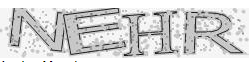E: (62, 8, 126, 57)
H: (121, 10, 179, 57)
N: (8, 7, 64, 53)
R: (183, 9, 244, 56)
